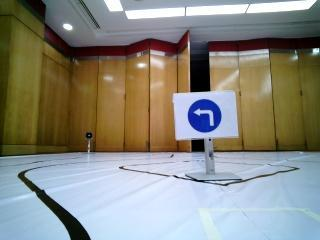left: (179, 98, 233, 133)
